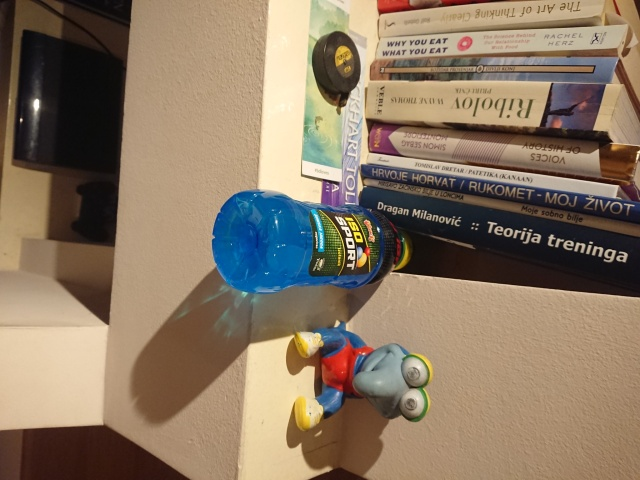Vindi Iso Sport Forest Strawberries 500mL: (210, 188, 425, 295)
